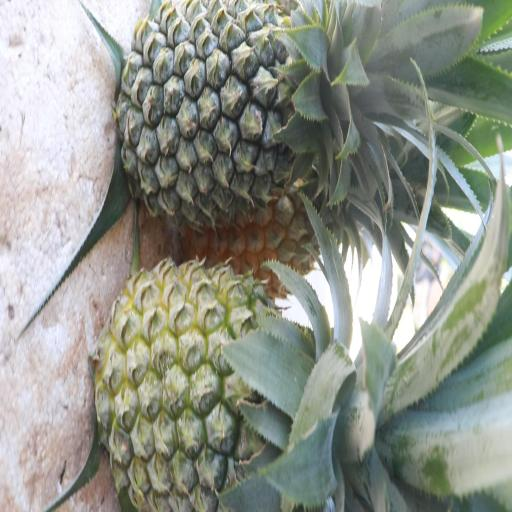------------------------------: (102, 262, 376, 512)
